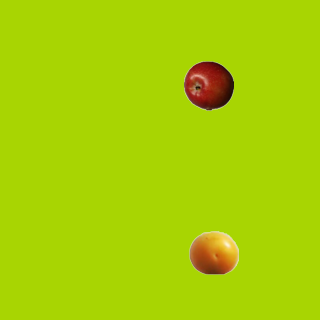Apple Braeburn: (183, 60, 233, 110)
Cherry Wax Yellow: (188, 227, 238, 277)
